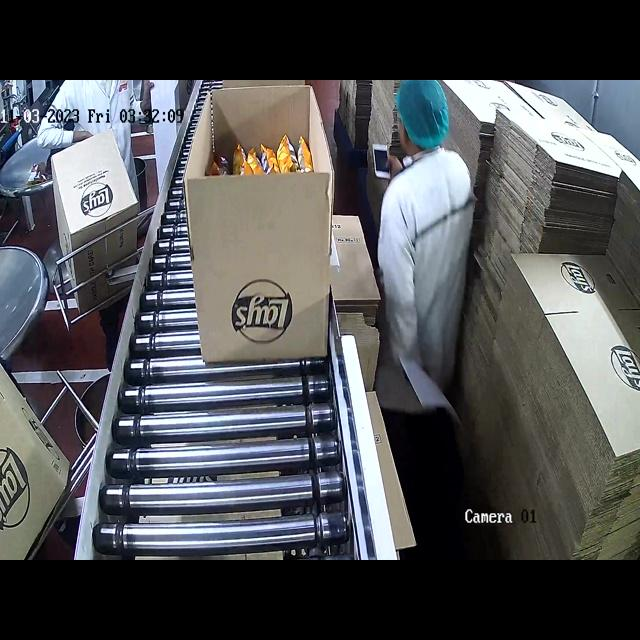cheese: (201, 123, 310, 191)
